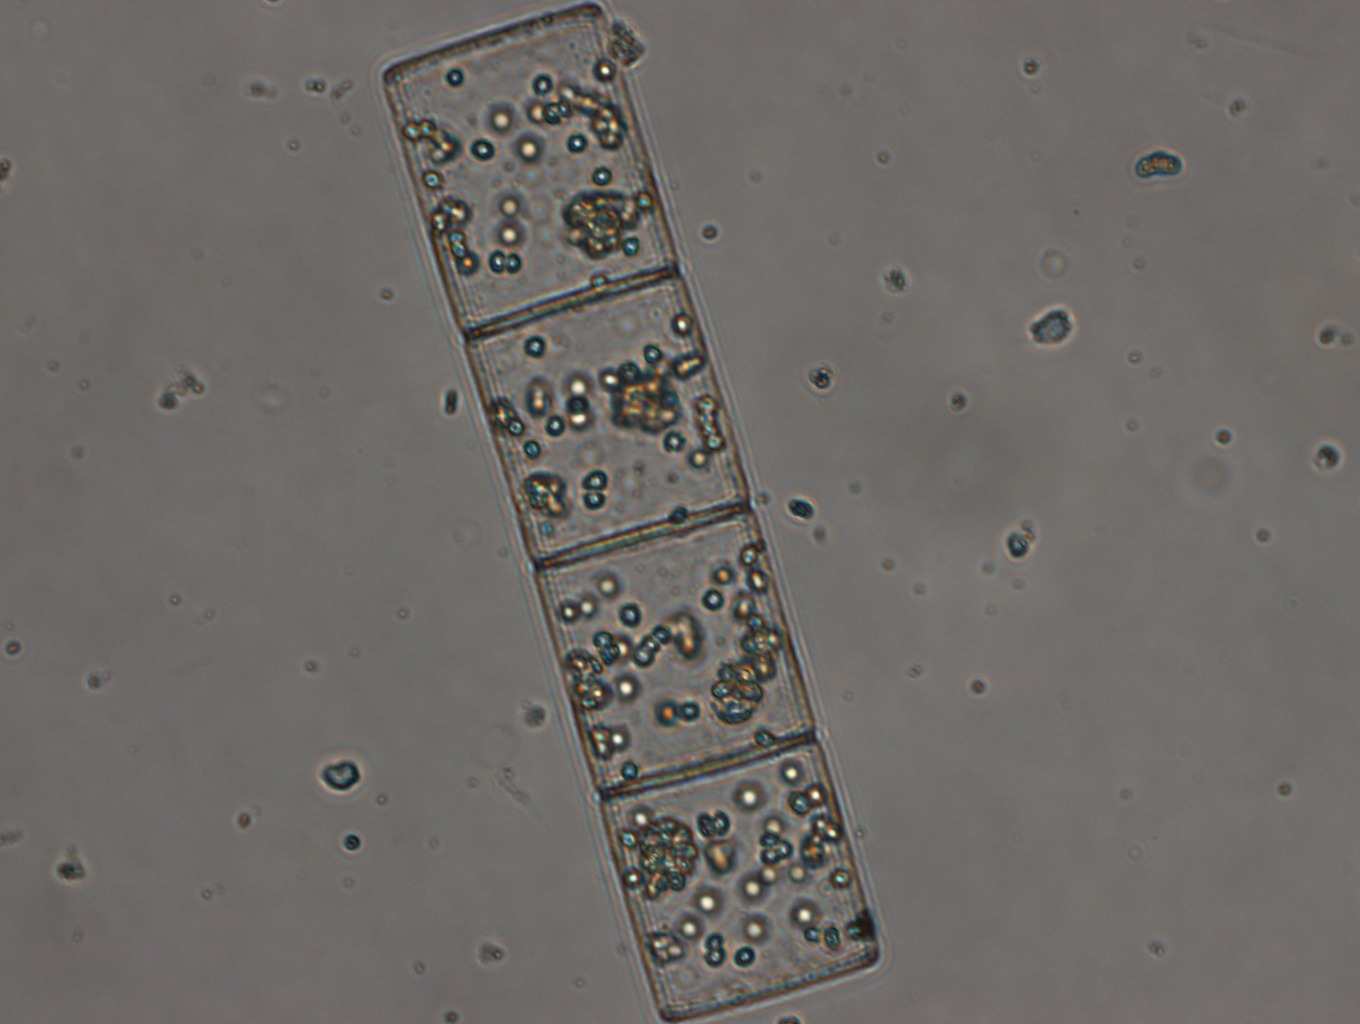guinardia flaccida: (383, 1, 881, 1024)
